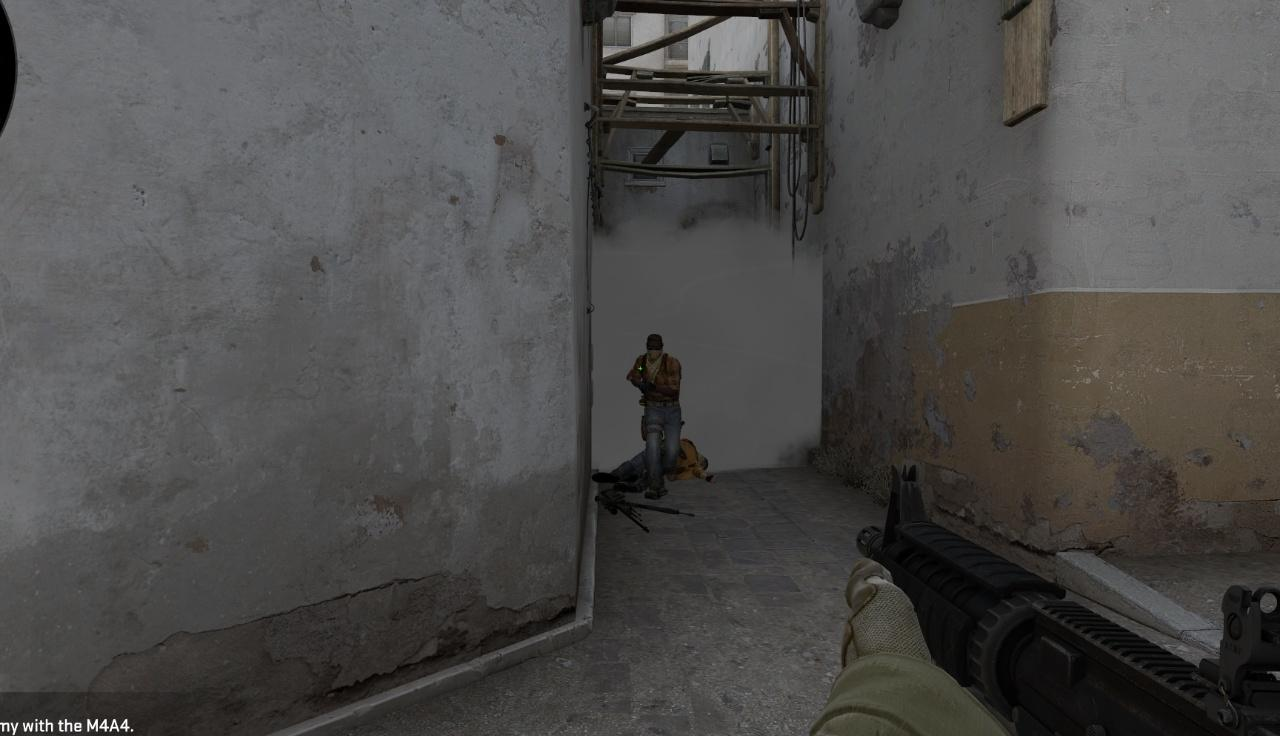rifle: (856, 464, 1280, 736)
tt: (632, 334, 681, 492)
tthead: (647, 333, 664, 361)
